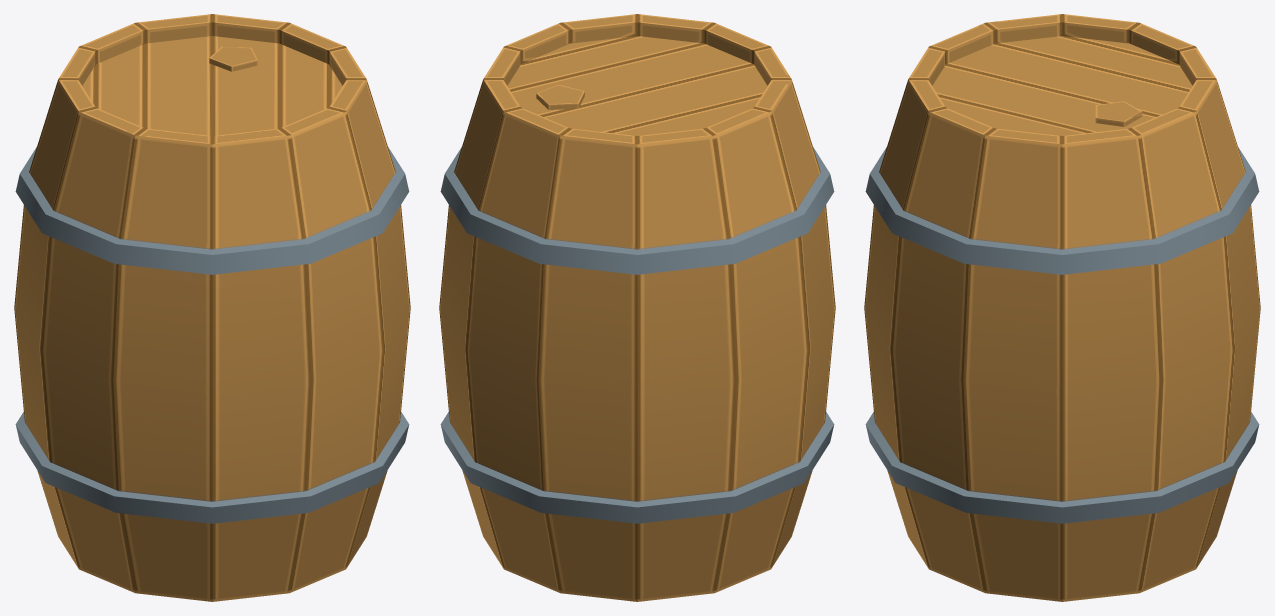
The model's file is Barrel.fbx.
3 views of the same model, side by side, from view 1: azimuth 30°, elevation 25°; view 2: azimuth 150°, elevation 25°; view 3: azimuth 270°, elevation 25° (orthographic).
Parts seen in each view (by area): view 1: Barrel; view 2: Barrel; view 3: Barrel.
Boxes of the visible parts, x1,y1,x2,y2 form: Barrel: (14, 14, 410, 601); Barrel: (439, 14, 835, 601); Barrel: (864, 14, 1260, 601).
Bounding box in the file's own units: 70.68 × 90 × 70.68.
